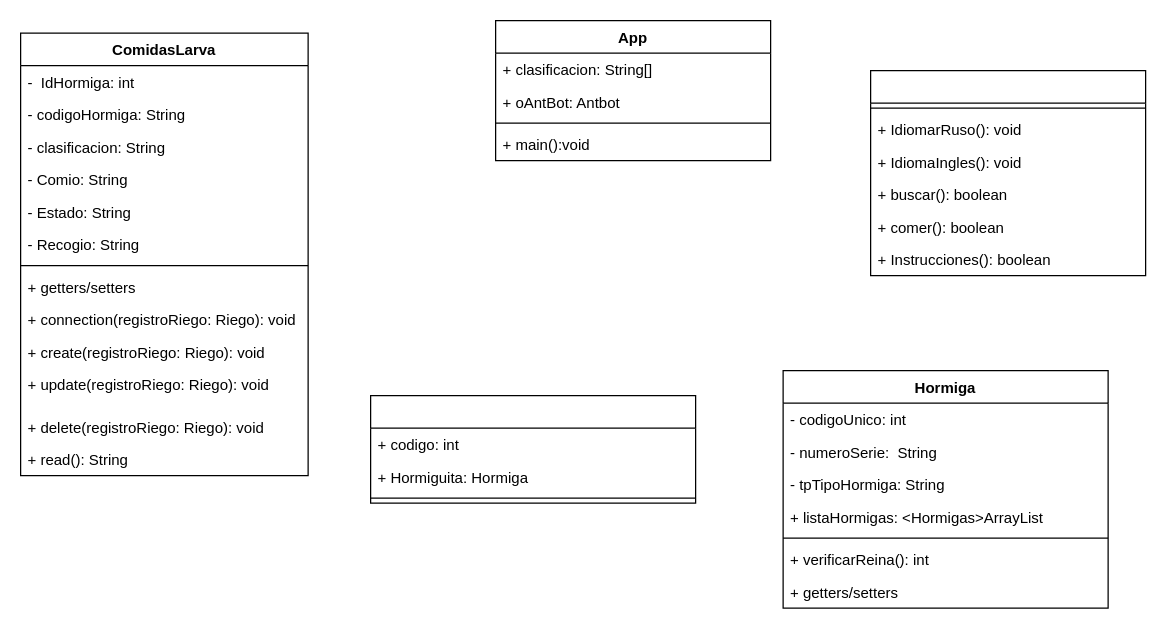
This 1166x629 diagram has some shape labels left out. Each missing label, with the box of its shape:
HormigaReina: (369, 394, 696, 503)
IaBot: (869, 69, 1146, 276)
